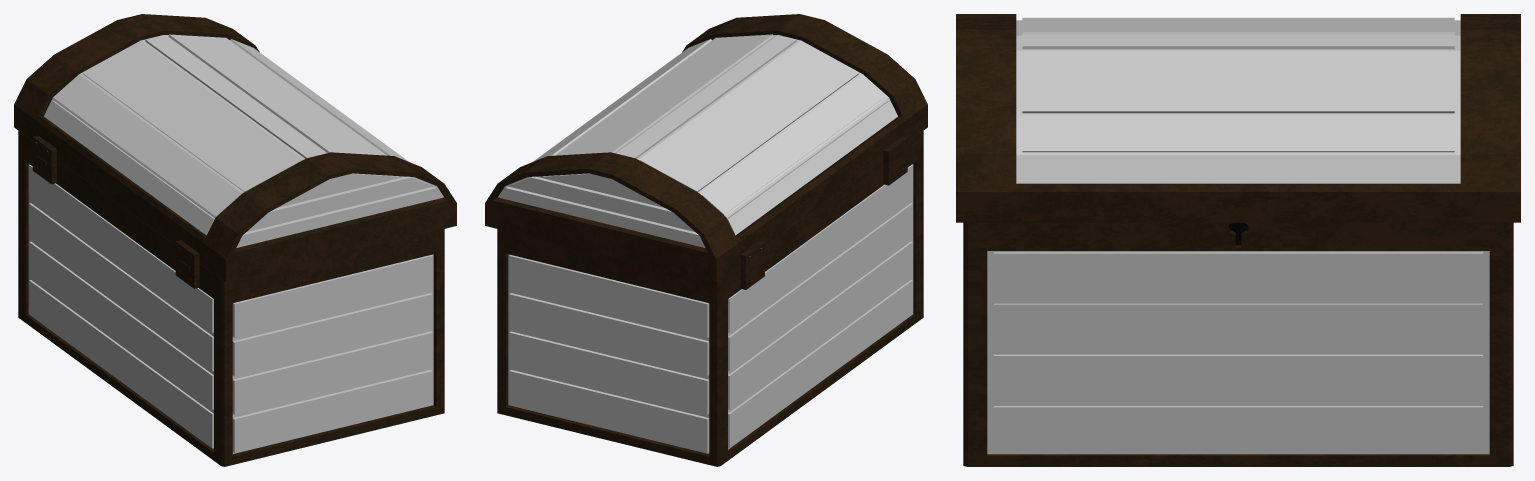
Rendered from Cofre.fbx.
The picture shows the model from 3 angles, left to right: view 1: azimuth 30°, elevation 25°; view 2: azimuth 150°, elevation 25°; view 3: azimuth 270°, elevation 25°; orthographic projection. The views are drawn at different scales.
Visible parts, largest first — view 1: Baul, Tapa; view 2: Baul, Tapa; view 3: Baul, Tapa.
Part boxes in pixels (x1,y1,x2,y2): Baul: (18, 131, 444, 466); Tapa: (14, 14, 456, 281); Baul: (497, 131, 923, 466); Tapa: (485, 14, 927, 281); Baul: (963, 222, 1513, 466); Tapa: (956, 14, 1520, 222).
Size of the model in its own units: 86.05 by 93.23 by 133.
